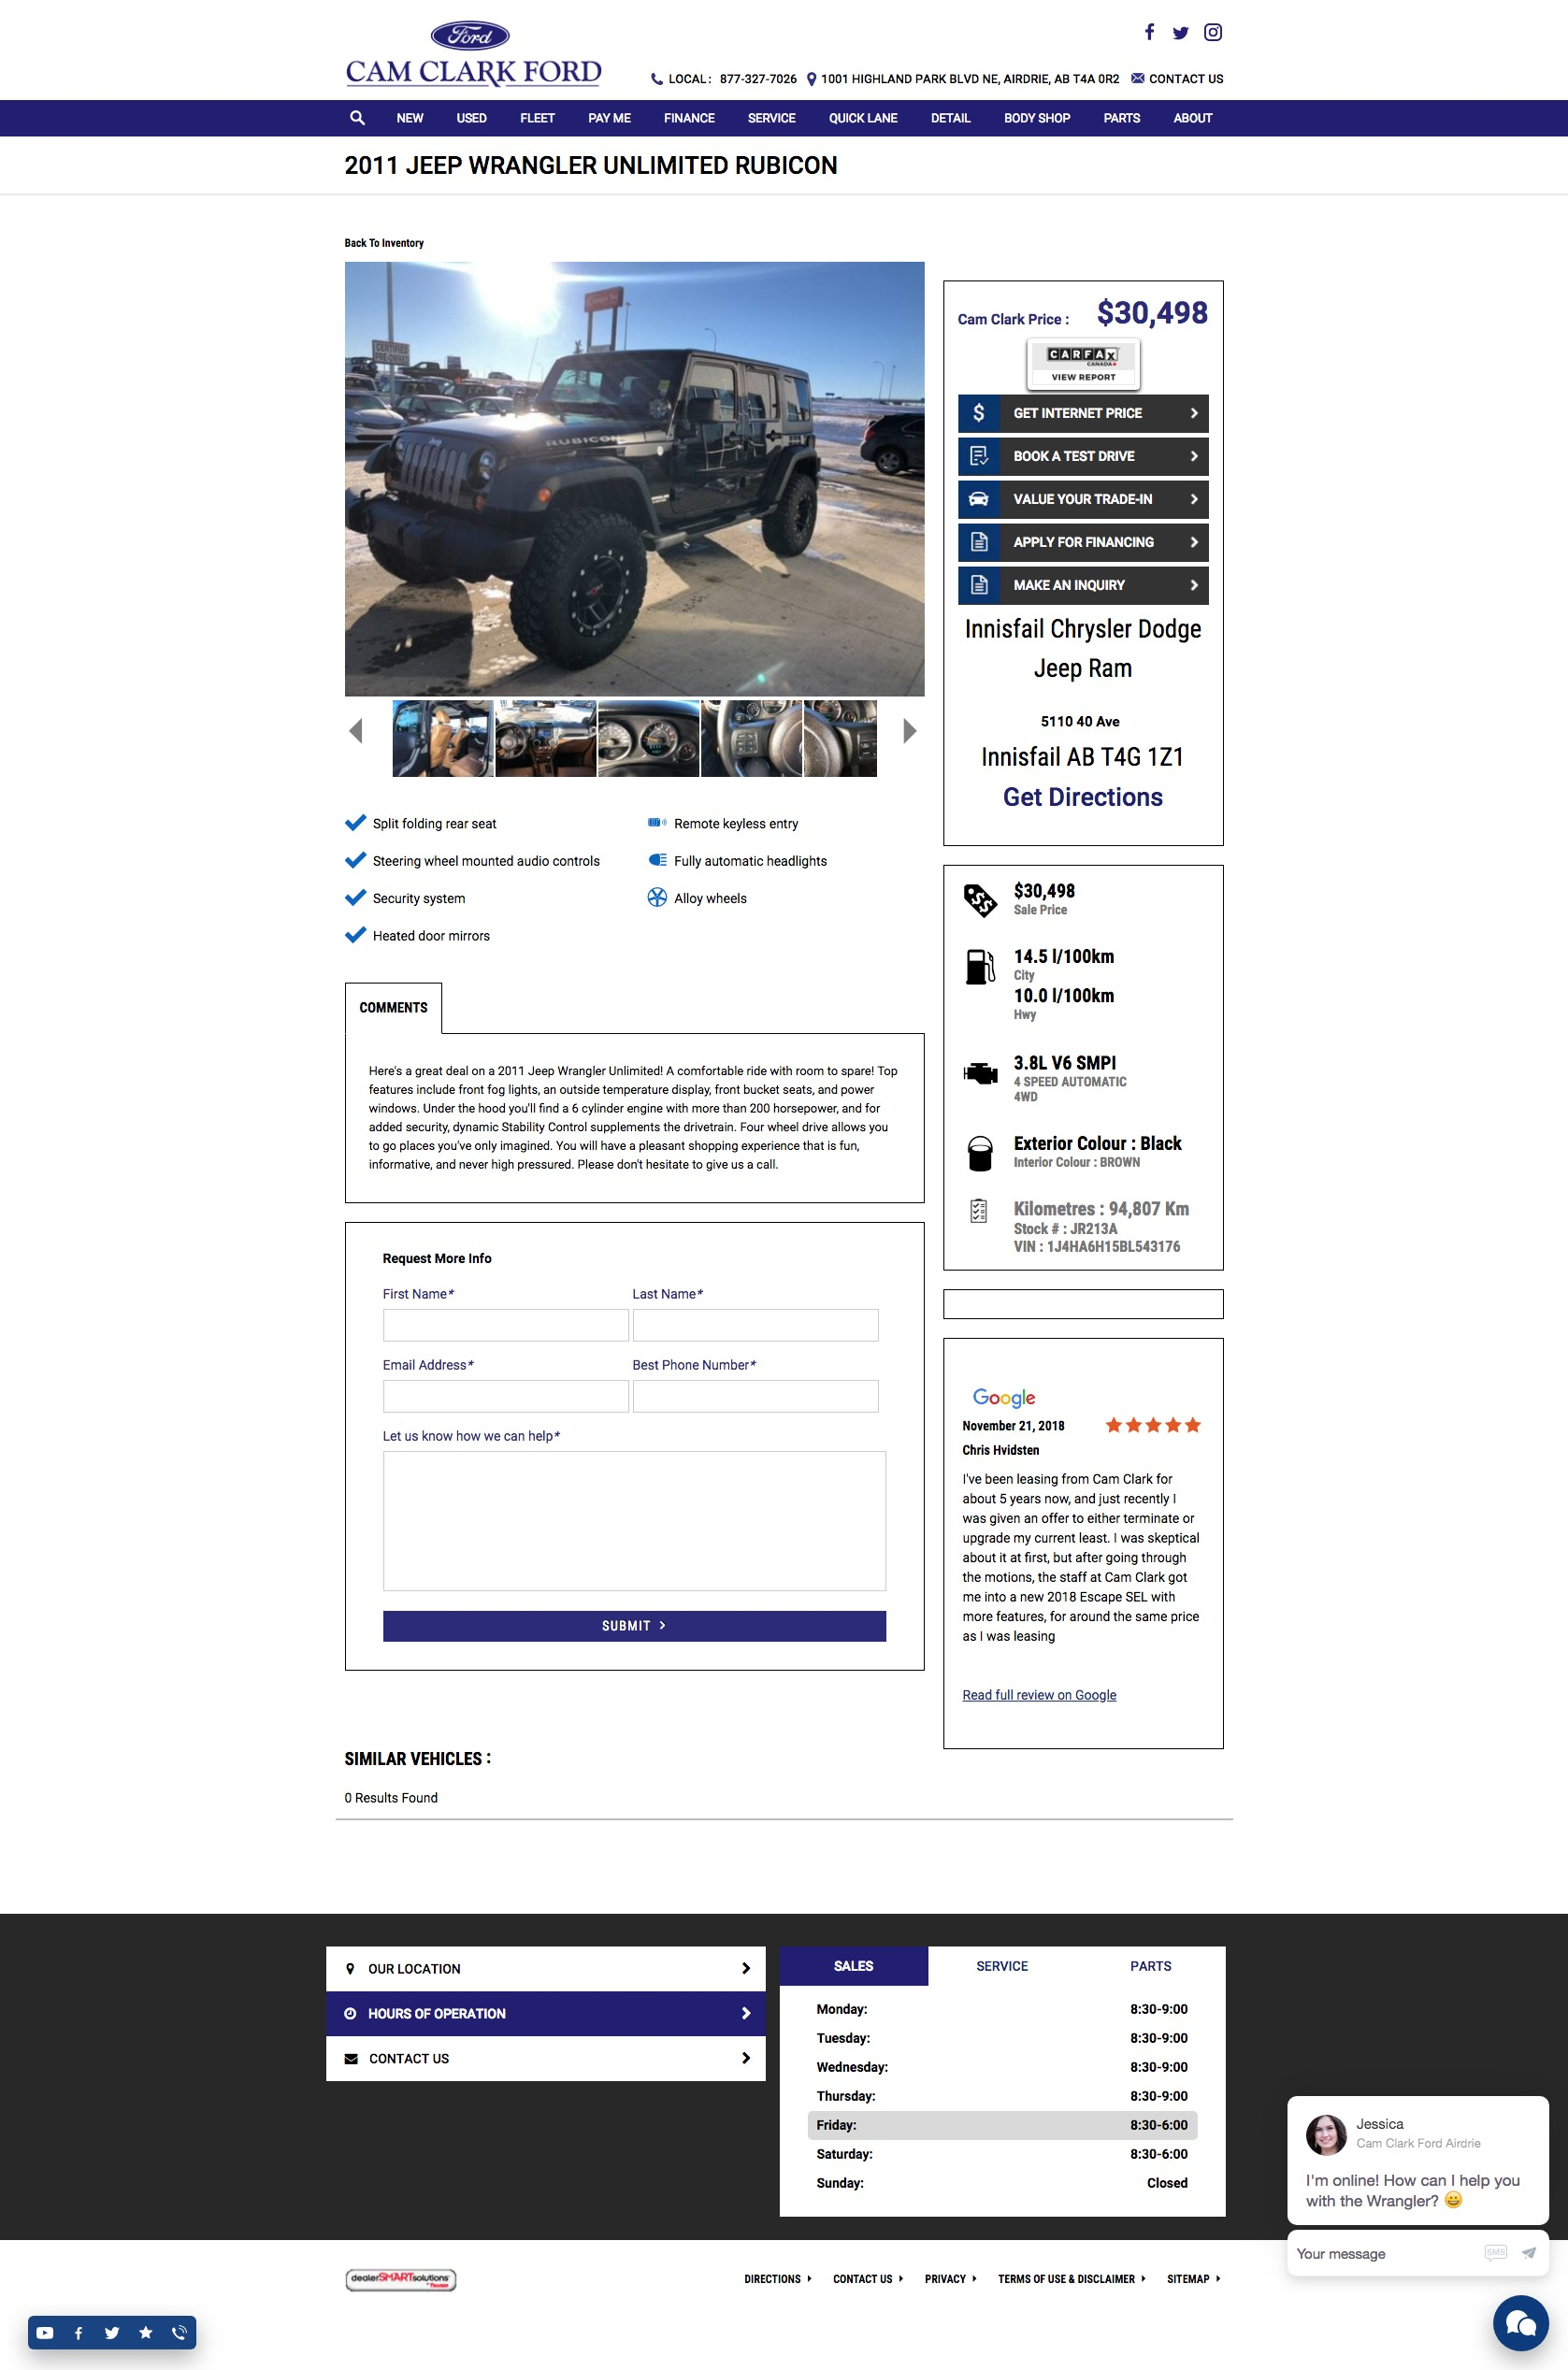car: (903, 717, 919, 747)
